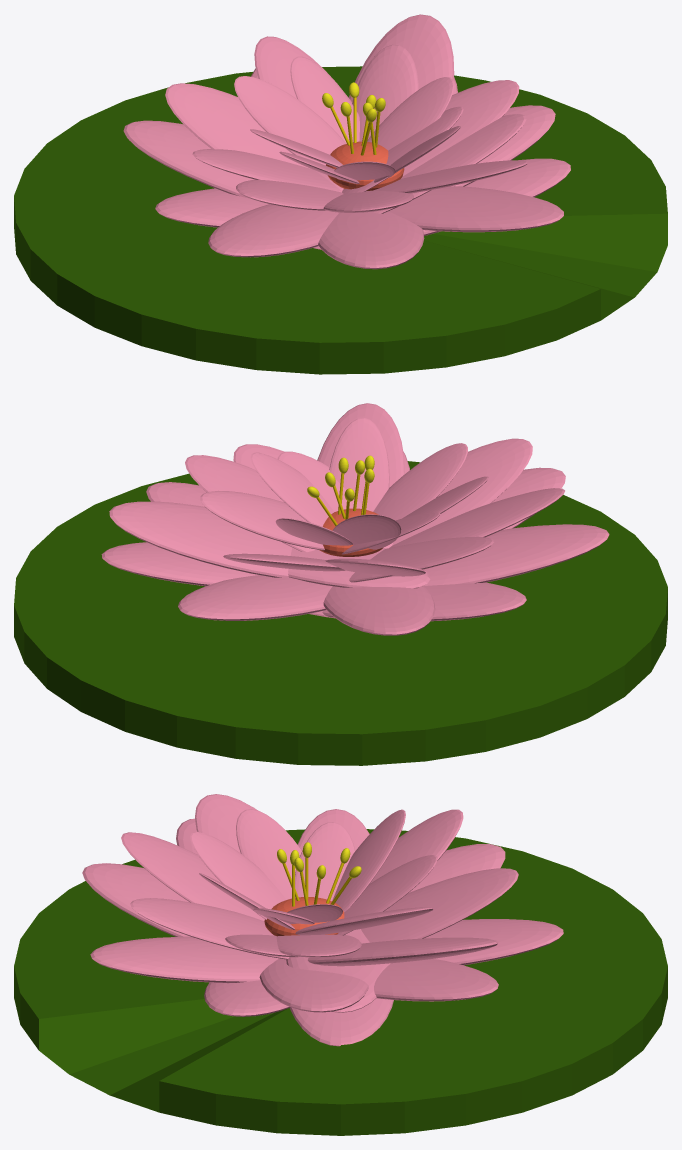
Rendered from flor_loto.glb.
3 renders of one model, top to bottom at view 1: azimuth 30°, elevation 25°; view 2: azimuth 150°, elevation 25°; view 3: azimuth 270°, elevation 25°, orthographic.
Visible parts, largest first — view 1: Cilindro_2, Esfera.007_11, Esfera.017_21, Esfera.005_9, Esfera.006_10, Esfera.021_25, Esfera.002_6, Esfera.015_19, Esfera.023_27, Esfera.010_14, Esfera.028_32, Esfera.018_22 (+15 smaller); view 2: Cilindro_2, Esfera.015_19, Esfera.005_9, Esfera.003_7, Esfera.002_6, Esfera.013_17, Esfera.014_18, Esfera.004_8, Esfera.025_29, Esfera.026_30, Esfera.023_27, Esfera.001_5 (+16 smaller); view 3: Cilindro_2, Esfera.007_11, Esfera.016_20, Esfera.013_17, Esfera.004_8, Esfera.012_16, Esfera.009_13, Esfera.003_7, Esfera.015_19, Esfera.024_28, Esfera.025_29, Esfera.006_10 (+16 smaller).
Boxes of the visible parts, left/top/right/bottom form: Cilindro_2: left=14, top=66, right=667, bottom=374; Esfera.007_11: left=388, top=186, right=563, bottom=232; Esfera.017_21: left=165, top=83, right=309, bottom=168; Esfera.005_9: left=208, top=204, right=338, bottom=257; Esfera.006_10: left=318, top=211, right=424, bottom=269; Esfera.021_25: left=234, top=76, right=346, bottom=165; Esfera.002_6: left=123, top=120, right=254, bottom=198; Esfera.015_19: left=348, top=14, right=454, bottom=102; Esfera.023_27: left=352, top=44, right=418, bottom=141; Esfera.010_14: left=403, top=80, right=519, bottom=175; Esfera.028_32: left=367, top=77, right=454, bottom=150; Esfera.018_22: left=192, top=149, right=342, bottom=192; Cilindro_2: left=14, top=461, right=667, bottom=765; Esfera.015_19: left=109, top=501, right=292, bottom=577; Esfera.005_9: left=423, top=524, right=609, bottom=585; Esfera.003_7: left=178, top=575, right=332, bottom=620; Esfera.002_6: left=323, top=586, right=435, bottom=635; Esfera.013_17: left=392, top=438, right=532, bottom=545; Esfera.014_18: left=389, top=488, right=564, bottom=547; Esfera.004_8: left=101, top=542, right=257, bottom=586; Esfera.025_29: left=373, top=443, right=467, bottom=520; Esfera.026_30: left=329, top=417, right=389, bottom=511; Esfera.023_27: left=200, top=490, right=324, bottom=550; Esfera.001_5: left=322, top=582, right=526, bottom=621; Cilindro_2: left=14, top=829, right=667, bottom=1135; Esfera.007_11: left=90, top=936, right=278, bottom=983; Esfera.016_20: left=361, top=868, right=518, bottom=942; Esfera.013_17: left=121, top=832, right=264, bottom=921; Esfera.004_8: left=374, top=959, right=498, bottom=1001; Esfera.012_16: left=130, top=898, right=289, bottom=959; Esfera.009_13: left=259, top=958, right=368, bottom=1012; Esfera.003_7: left=424, top=919, right=563, bottom=965; Esfera.015_19: left=307, top=937, right=498, bottom=966; Esfera.024_28: left=236, top=809, right=301, bottom=899; Esfera.025_29: left=190, top=831, right=286, bottom=919; Esfera.006_10: left=82, top=863, right=190, bottom=936.
Bounding box in the file's own units: 3 × 0.7728 × 3.
